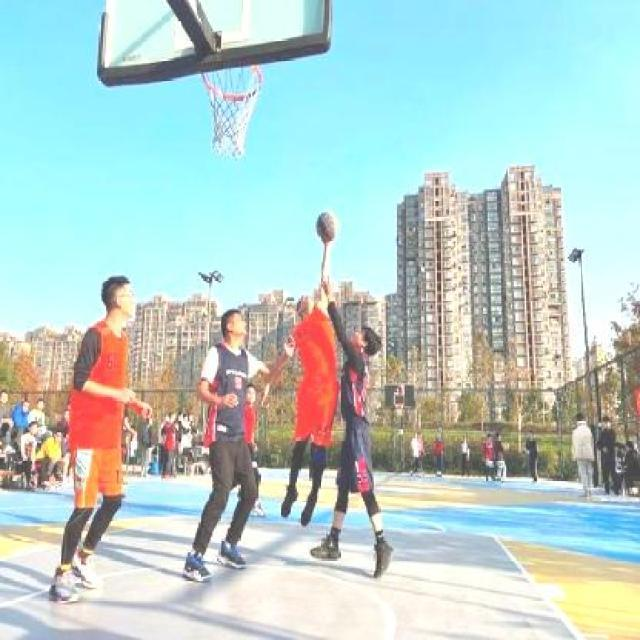Ball: (317, 211, 337, 242)
